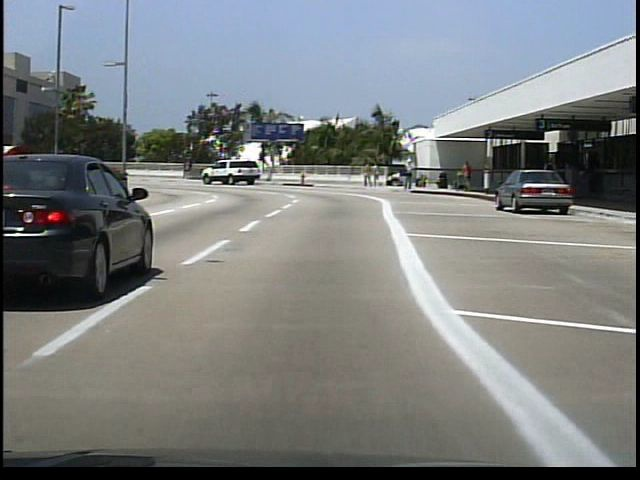person: (540, 154, 560, 203), (461, 160, 476, 191), (404, 156, 415, 193), (364, 161, 374, 189), (373, 160, 382, 189)
